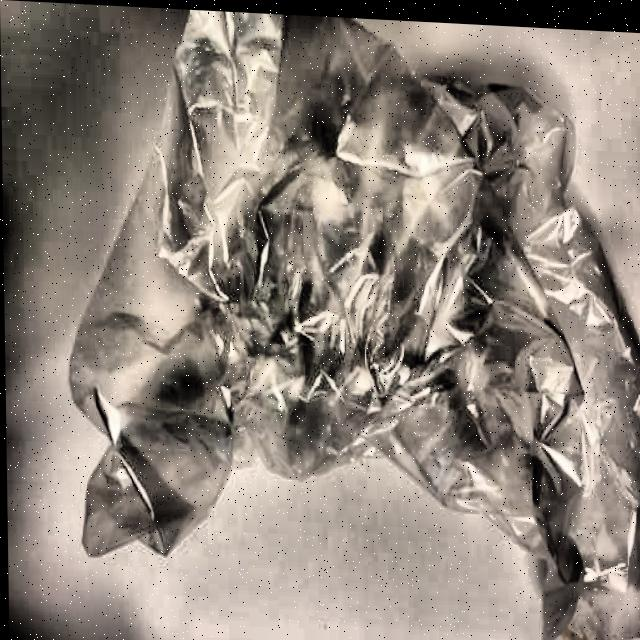plastic: (49, 3, 640, 640)
